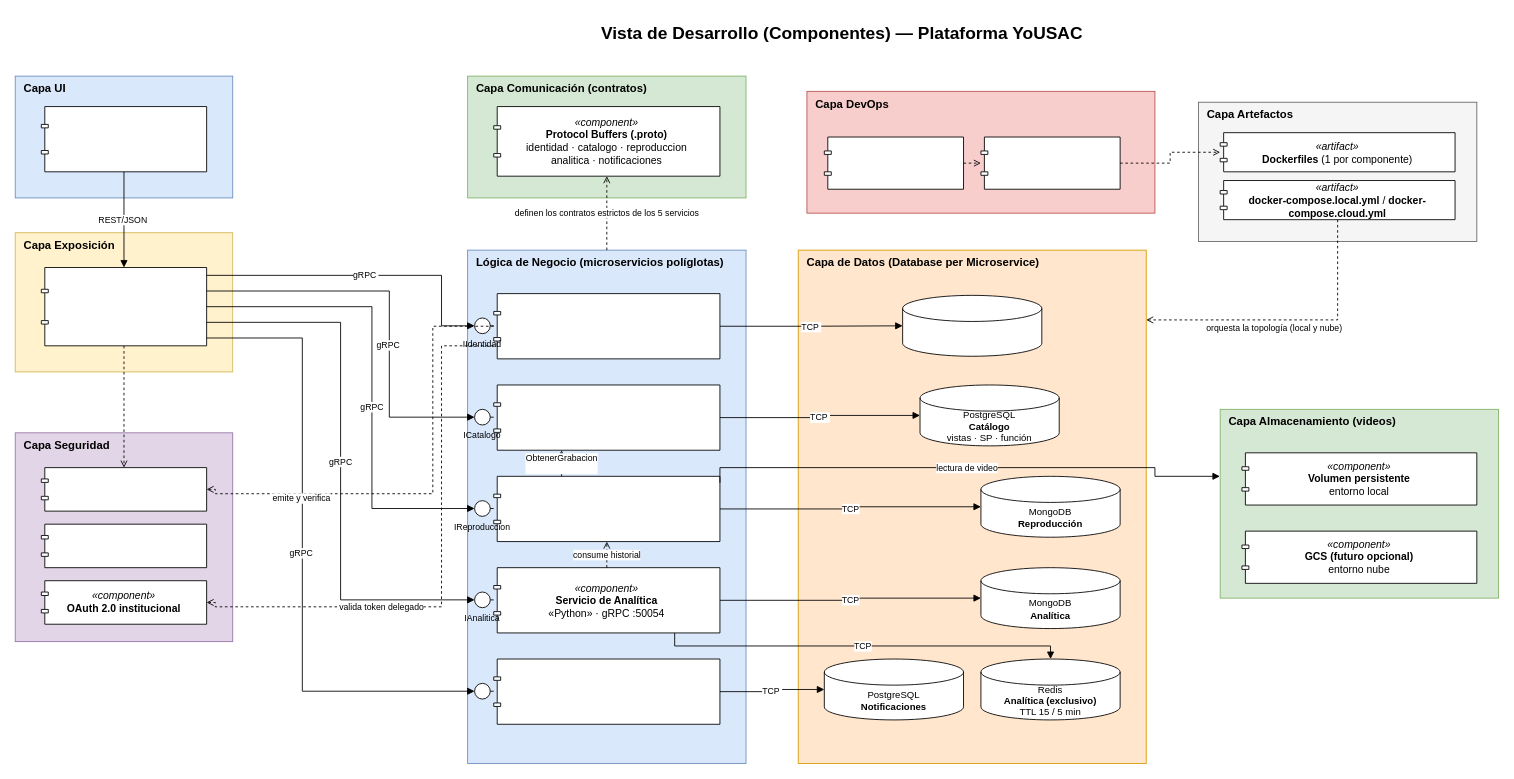
Some shapes in this 1514 by 779 pixel diagram are drawn without their labels. Here are the shapes that lost their labels. From the top down, the centre of each, then its label:
pixel 123 139: «component» Frontend Next.js Cliente Next.js
pixel 893 162: «Repository» GitHub Repository
pixel 1050 162: «component» GitHub Actions Referencia futura (no implementada)
pixel 123 306: «component» Gateway NestJS «TypeScript» · REST/JSON :443 único punto de entrada
pixel 606 326: «component» Servicio de Identidad «TypeScript» · gRPC :50051
pixel 972 325: PostgreSQL Identidad SP · triggers
pixel 606 417: «component» Servicio de Catálogo «TypeScript» · gRPC :50052
pixel 123 489: «component» JWT tokens
pixel 606 508: «component» Servicio de Reproducción «Go» · gRPC :50053
pixel 123 545: «component» Secrets (.env)
pixel 482 691: INotificaciones
pixel 606 691: «component» Servicio de Notificaciones «TypeScript» · gRPC :50055
